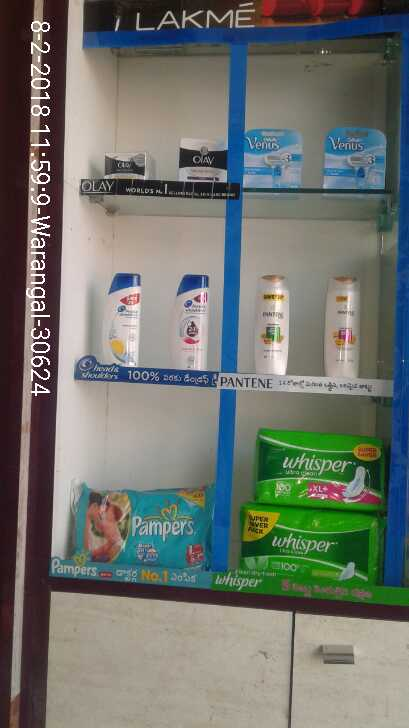venus: (323, 126, 386, 186), (241, 130, 296, 191)
